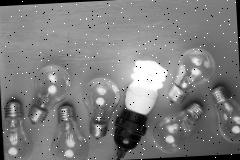lightbulb: (109, 58, 172, 160), (24, 64, 73, 124), (166, 47, 218, 103), (150, 102, 205, 154), (123, 59, 170, 116), (81, 76, 122, 140), (48, 104, 89, 160), (1, 99, 33, 160), (210, 85, 240, 144)
